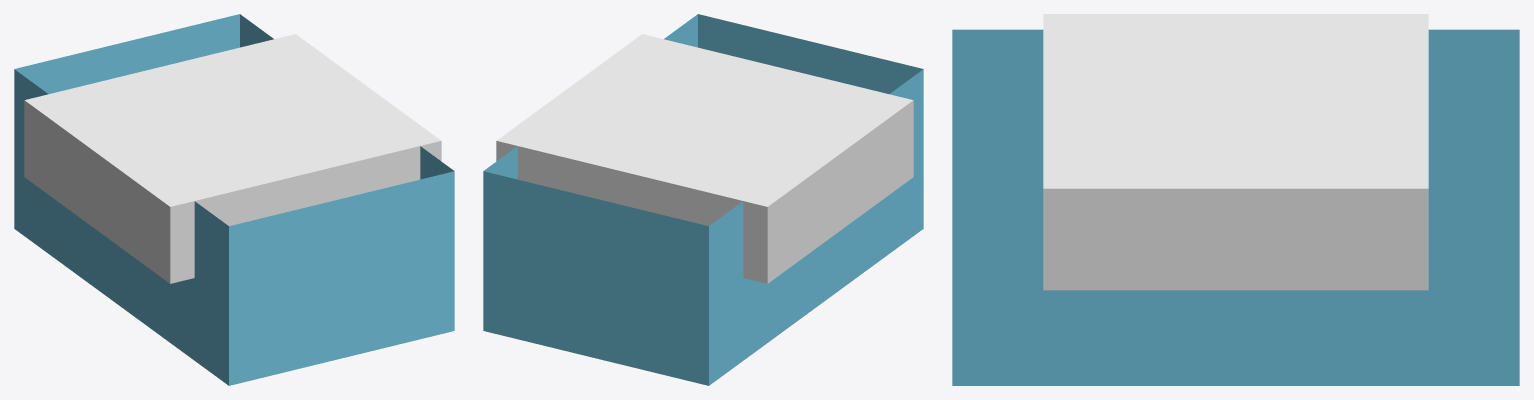
The model's file is Town_Bld-sm_BaseD.FBX.
3 renders of one model, left to right at view 1: azimuth 30°, elevation 25°; view 2: azimuth 150°, elevation 25°; view 3: azimuth 270°, elevation 25°, orthographic. The views are drawn at different scales.
Parts seen in each view (by area): view 1: Town_Bld-sm_BaseD; view 2: Town_Bld-sm_BaseD; view 3: Town_Bld-sm_BaseD.
Boxes of the visible parts, bbox=[...] form: Town_Bld-sm_BaseD: bbox=[14, 14, 454, 385]; Town_Bld-sm_BaseD: bbox=[483, 14, 923, 385]; Town_Bld-sm_BaseD: bbox=[952, 14, 1519, 385].
Bounding box in the file's own units: 362 × 204 × 497.
